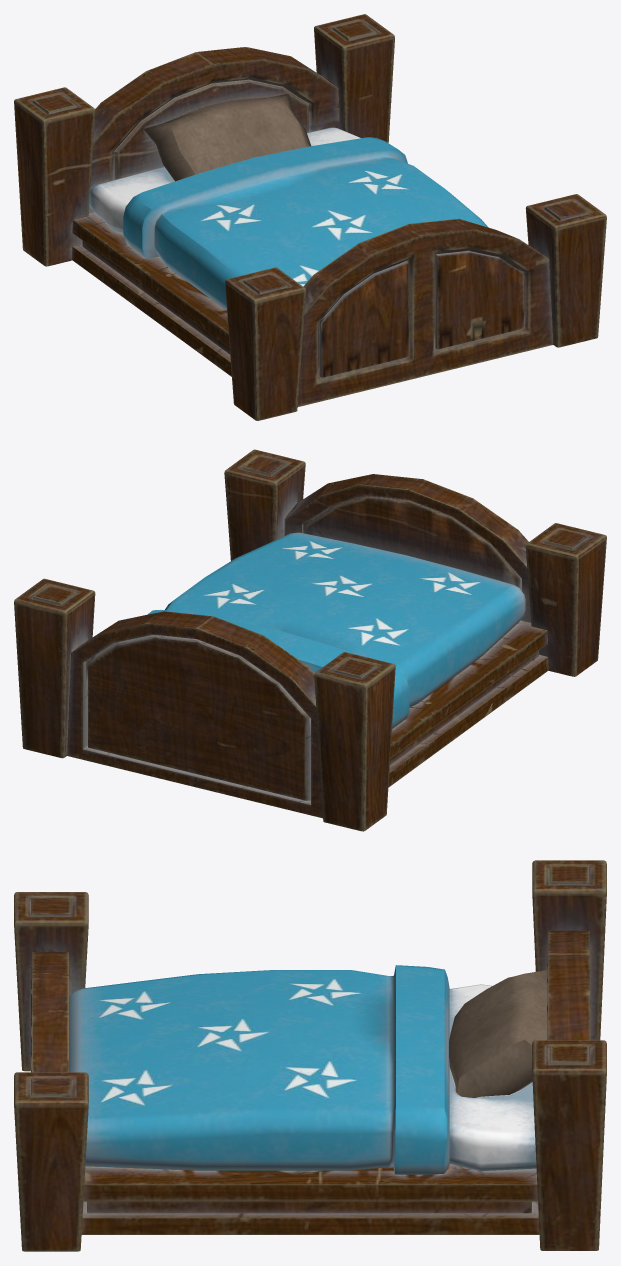
The model's file is room_bed.glb.
The picture shows the model from 3 angles, top to bottom: view 1: azimuth 30°, elevation 25°; view 2: azimuth 150°, elevation 25°; view 3: azimuth 270°, elevation 25°; orthographic projection. The views are drawn at different scales.
Parts seen in each view (by area): view 1: room_bed; view 2: room_bed; view 3: room_bed.
Part boxes in pixels (x1,y1,x2,y2): room_bed: (14, 14, 606, 420); room_bed: (14, 449, 606, 831); room_bed: (14, 860, 606, 1251).
Bounding box in the file's own units: 292 × 125 × 345.
Materials: 5 (5 with a texture image).
